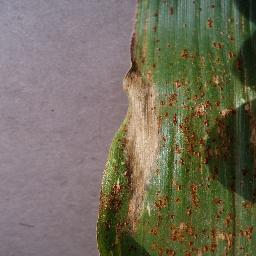Corn_Blight: (172, 38, 251, 253), (112, 6, 163, 229), (90, 177, 128, 253), (126, 187, 167, 255), (171, 3, 248, 34)
